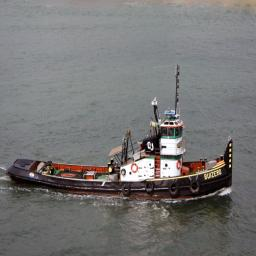tugboat: (5, 60, 235, 209)
